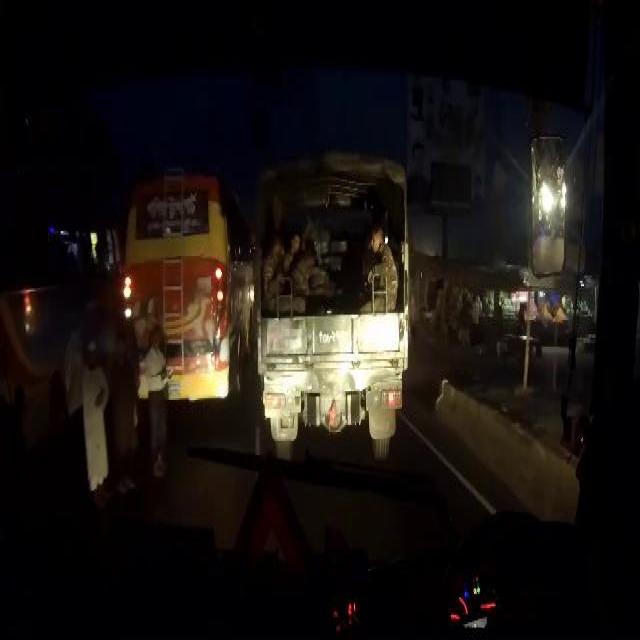army vehicle: (251, 146, 409, 458)
bus: (122, 175, 248, 397)
